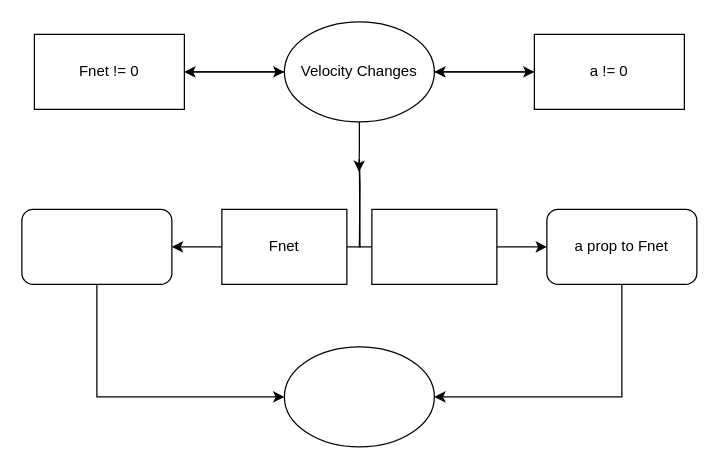
Image size: 719x469. Some labels were removed from this diagram. The centre of each missing label's shape, as x and y in pixels:
a prop to 1/m: point 96,246
a prop to Fnet/m: point 358,396
Mass: point 434,246
